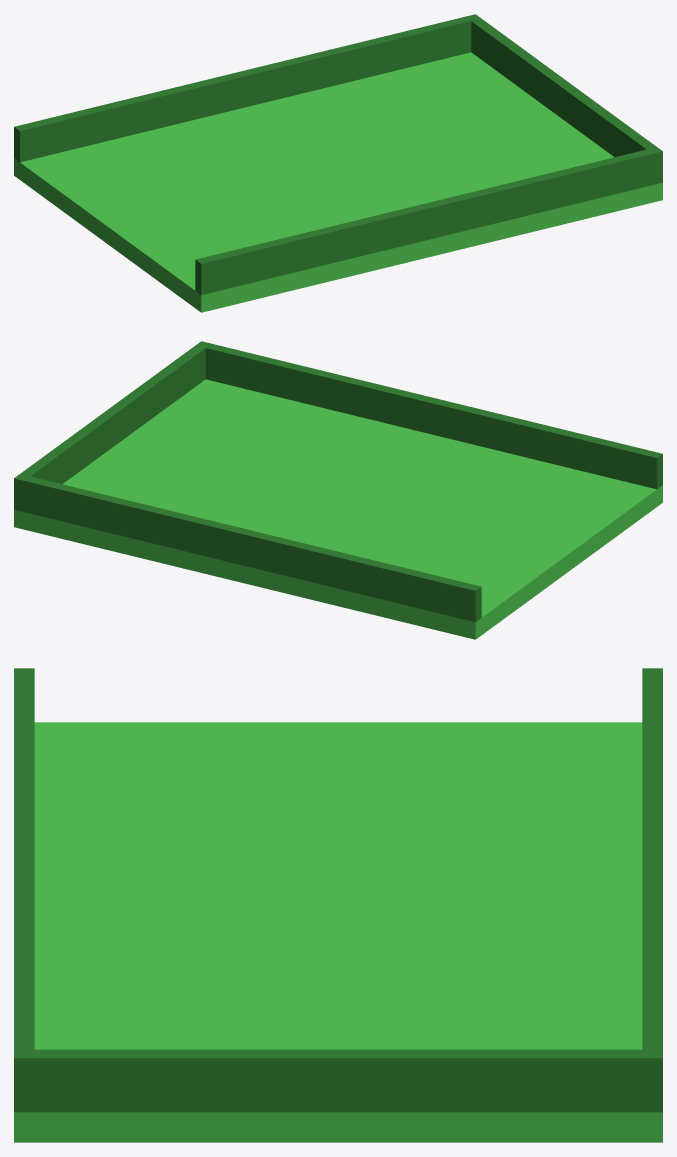
The picture shows the model from 3 angles, top to bottom: view 1: azimuth 30°, elevation 25°; view 2: azimuth 150°, elevation 25°; view 3: azimuth 270°, elevation 25°; orthographic projection. The views are drawn at different scales.
Visible parts, largest first — view 1: pCube7; view 2: pCube7; view 3: pCube7.
Boxes of the visible parts, x1=… form: pCube7: x1=14, y1=14, x2=662, y2=312; pCube7: x1=14, y1=341, x2=662, y2=639; pCube7: x1=14, y1=668, x2=662, y2=1142.
Bounding box in the file's own units: 0.0224 × 0.00226 × 0.0158.
